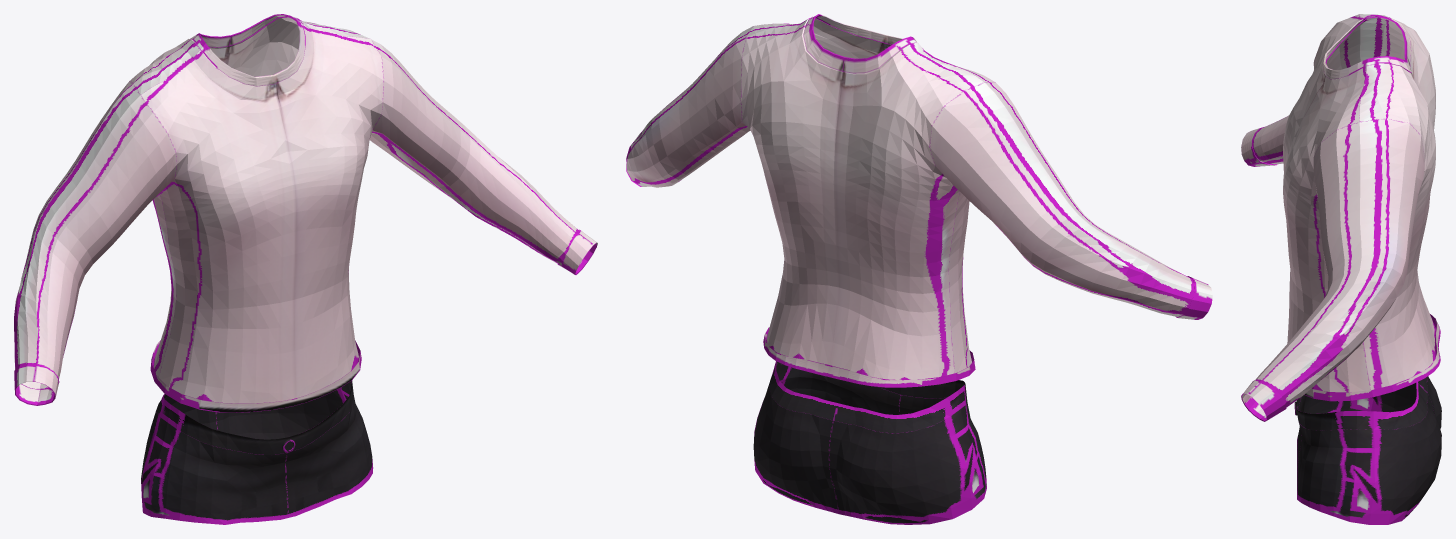
The picture shows the model from 3 angles, left to right: view 1: azimuth 30°, elevation 25°; view 2: azimuth 150°, elevation 25°; view 3: azimuth 270°, elevation 25°; orthographic projection. The views are drawn at different scales.
Size of the model in its own units: 1.17 by 0.9014 by 0.3635.
1 material, 1 textured.
